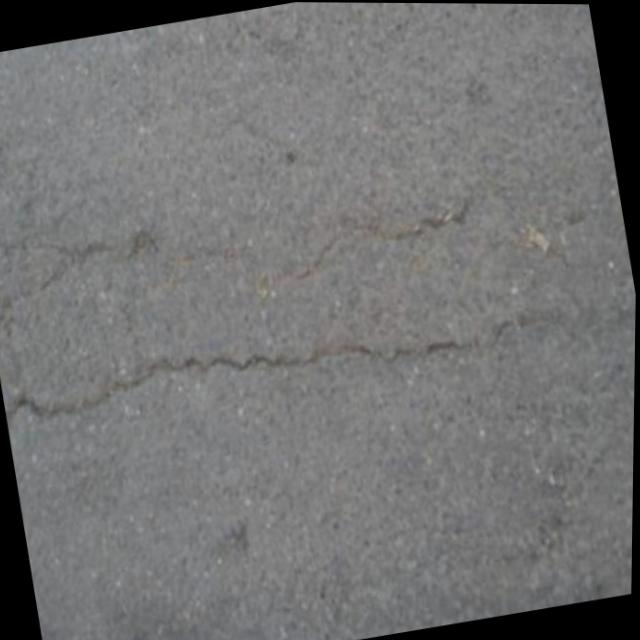Crack: (0, 284, 484, 444)
